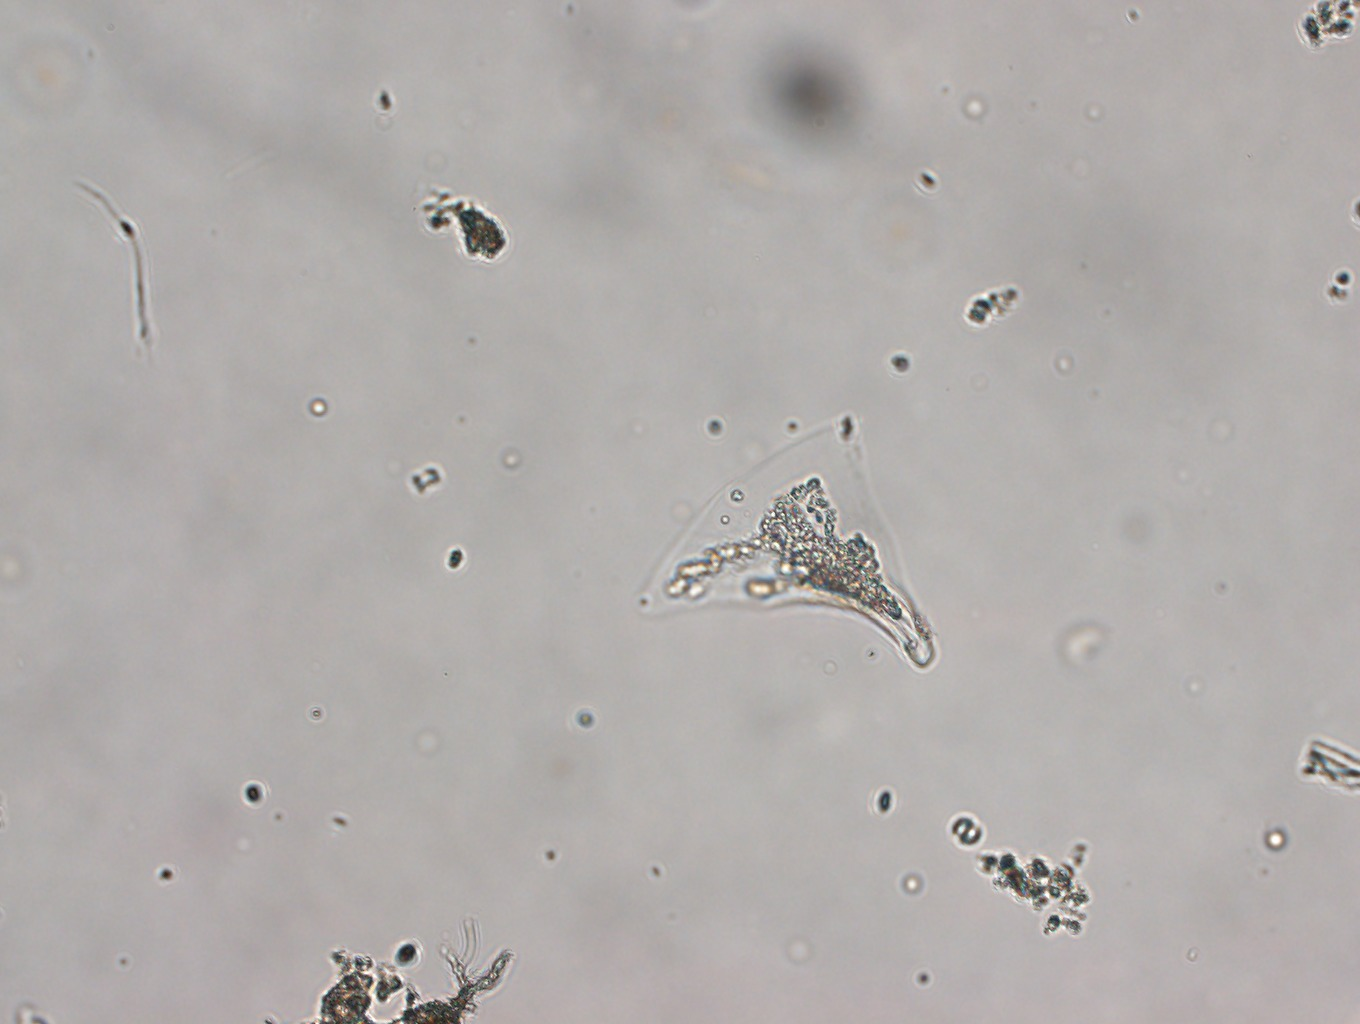helicotheca: (629, 407, 945, 675)
